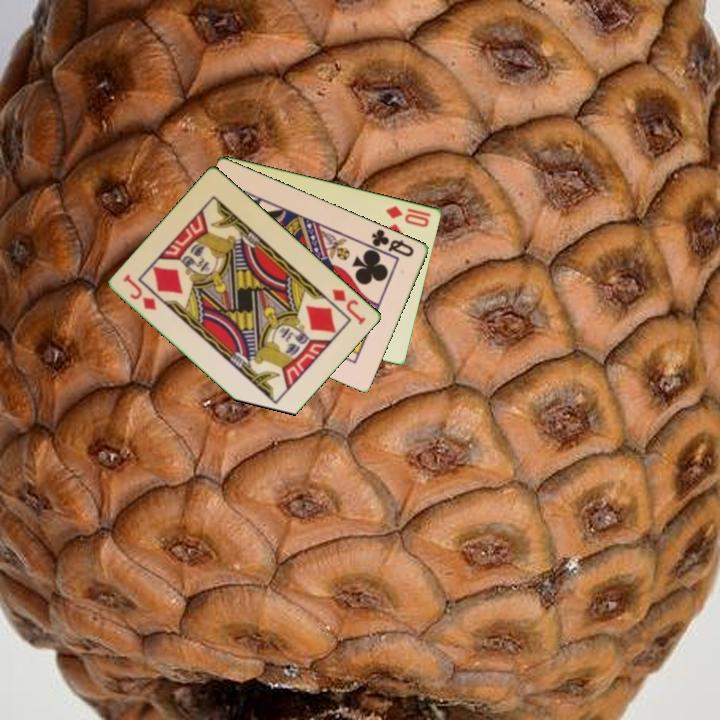10d: (383, 202, 434, 230)
Jd: (120, 270, 160, 314), (329, 285, 369, 328)
Qc: (368, 225, 417, 260)
